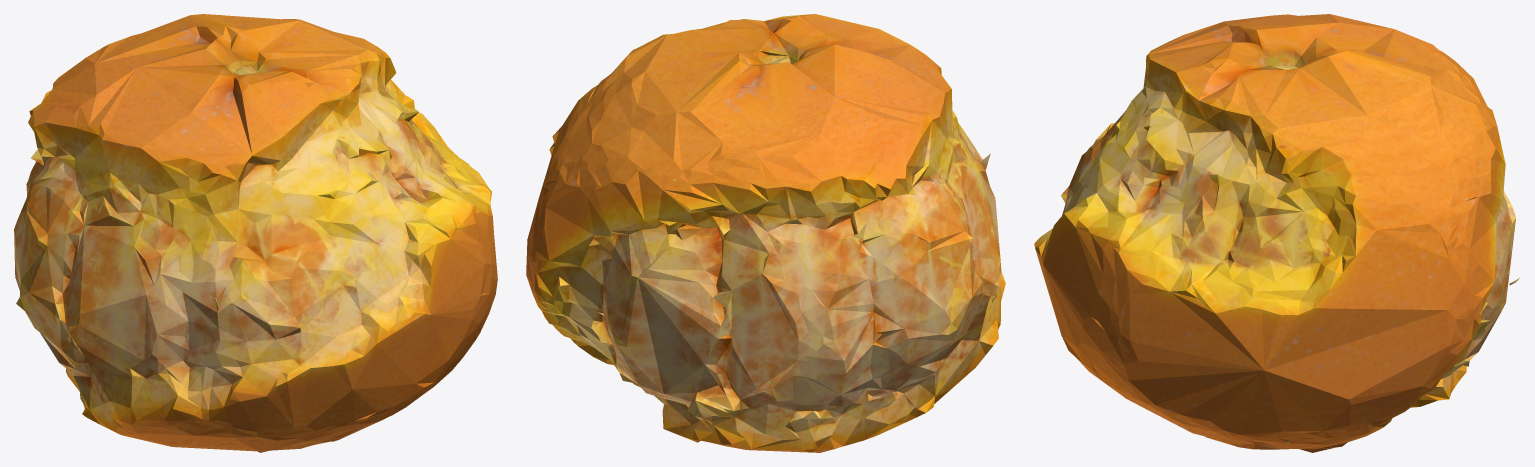
File: Orange.fbx
The picture shows the model from 3 angles, left to right: view 1: azimuth 30°, elevation 25°; view 2: azimuth 150°, elevation 25°; view 3: azimuth 270°, elevation 25°; orthographic projection.
Visible parts, largest first — view 1: Orange1; view 2: Orange1; view 3: Orange1.
Boxes of the visible parts, bbox=[...] form: Orange1: bbox=[14, 14, 497, 452]; Orange1: bbox=[526, 14, 1005, 452]; Orange1: bbox=[1034, 14, 1520, 452].
Size of the model in its own units: 3.45 by 2.77 by 3.42.
Materials: 1 (1 with a texture image).
